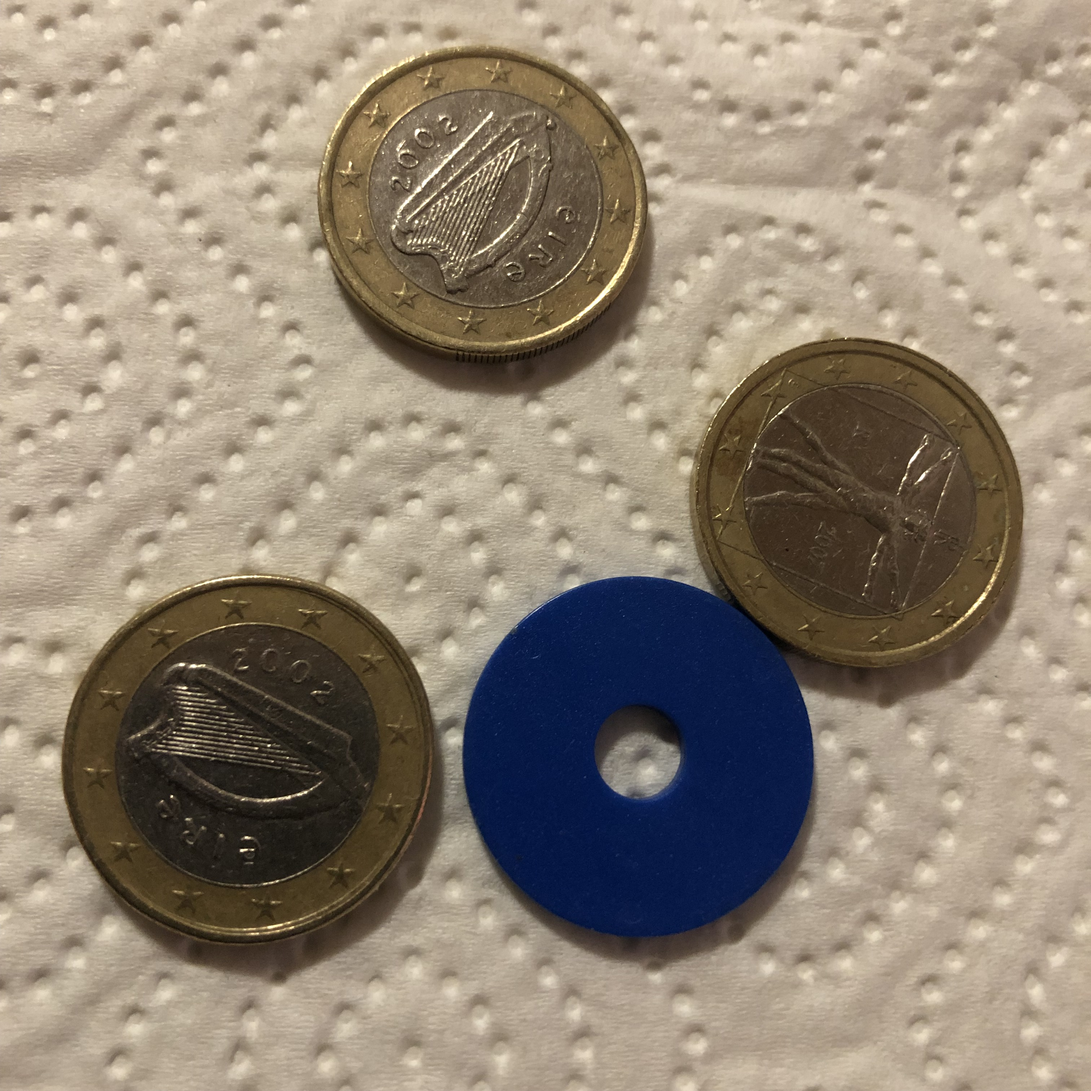1 euro: (54, 564, 438, 953), (687, 333, 1032, 670), (318, 38, 647, 369)
